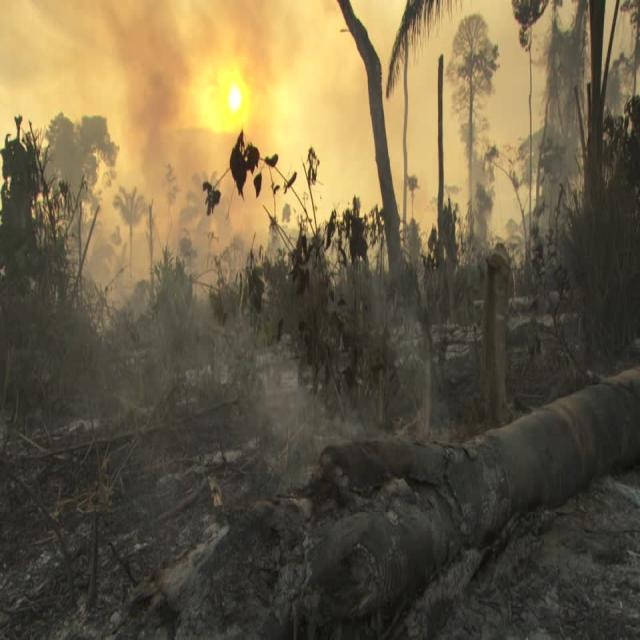Fire: (174, 50, 263, 141)
